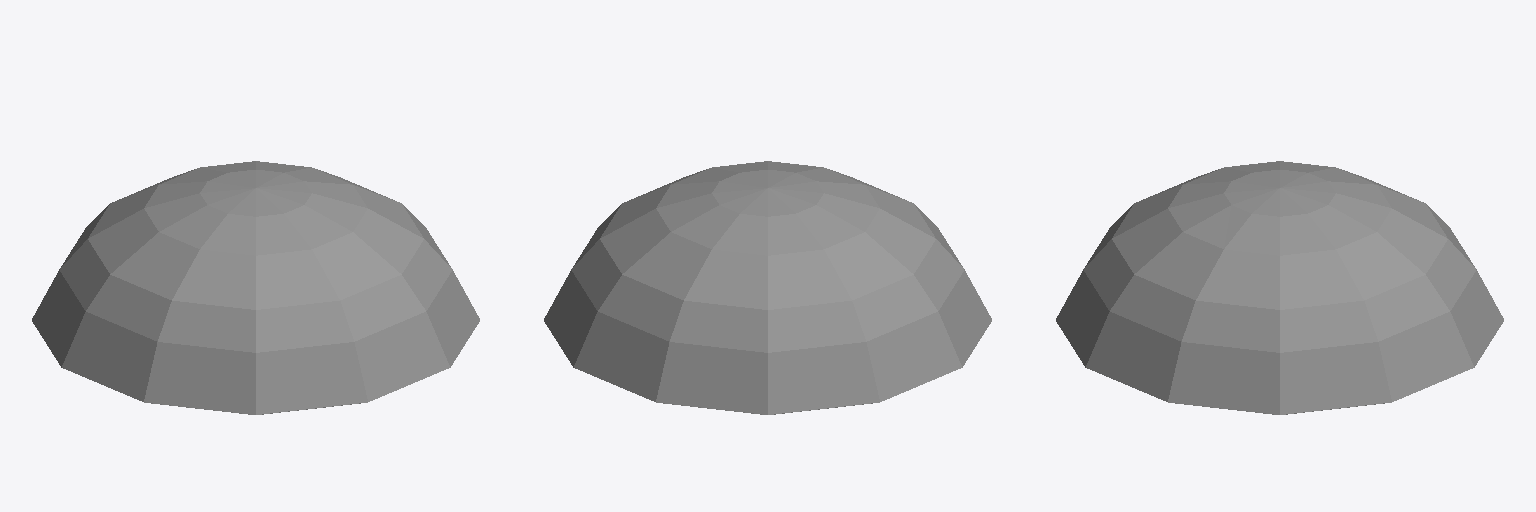
The model's file is Radar-Shell.obj.
The picture shows the model from 3 angles: view 1: azimuth 30°, elevation 25°; view 2: azimuth 150°, elevation 25°; view 3: azimuth 270°, elevation 25°; orthographic projection.
Parts seen in each view (by area): view 1: Radar-Shell; view 2: Radar-Shell; view 3: Radar-Shell.
Part boxes in pixels (bbox=[...]): Radar-Shell: bbox=[32, 161, 479, 414]; Radar-Shell: bbox=[544, 161, 991, 414]; Radar-Shell: bbox=[1056, 161, 1503, 414].
Bounding box in the file's own units: 1.02 × 0.3397 × 1.02.